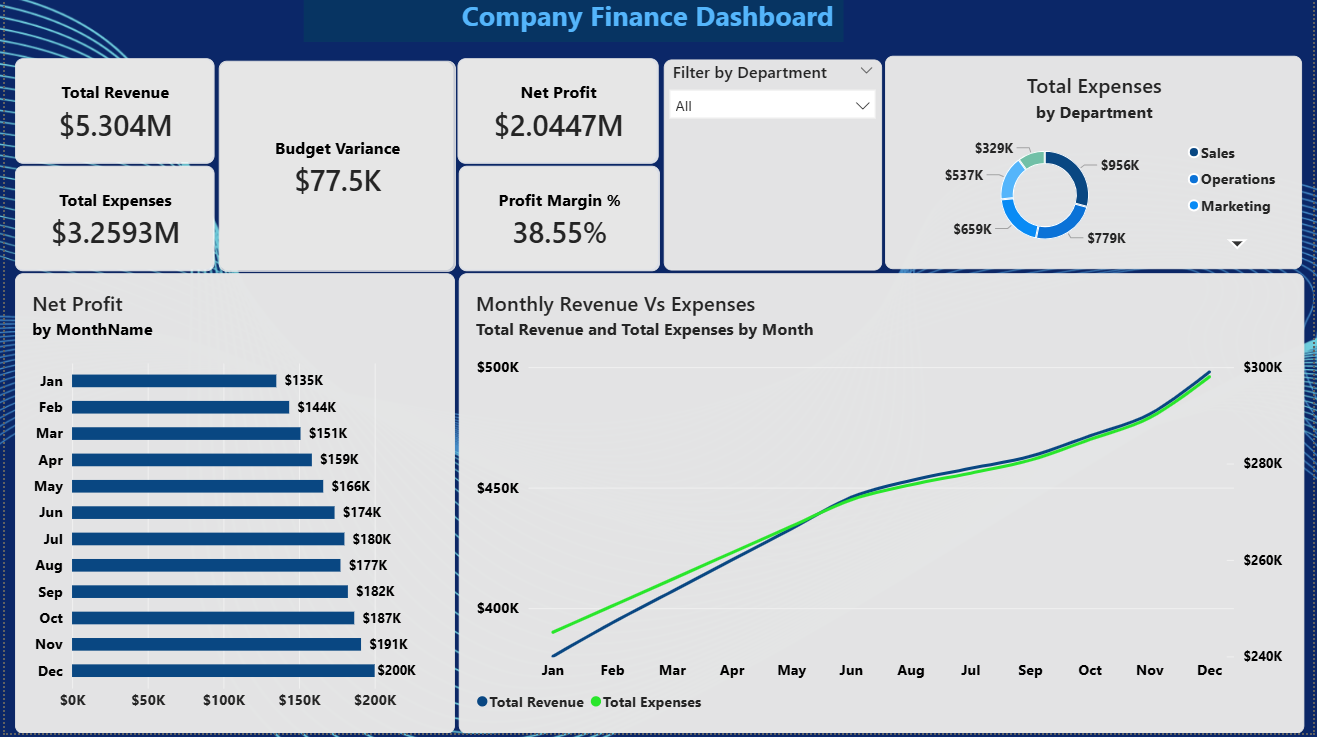

This screenshot's page, from the dashboard's own definition file:
{"tool":"powerbi","page":{"name":"Exuctive_Dashboard","canvas":[1280,720],"ordinal":1},"visuals":[{"type":"cardVisual","fields":{"Data":["Company_Finance.Total Revenue"]},"box":[10,60,195,103.3],"z":0},{"type":"cardVisual","fields":{"Data":["Company_Finance.Total Expenses"]},"box":[10,165,195,103.3],"z":1000},{"type":"cardVisual","fields":{"Data":["Company_Finance.Net Profit"]},"box":[443,60,196.7,103.3],"z":2000},{"type":"cardVisual","fields":{"Data":["Company_Finance.Profit Margin %"]},"box":[443.3,165,196.7,103.3],"z":3000},{"type":"cardVisual","fields":{"Data":["Company_Finance.Budget Variance"]},"box":[209,62,231.7,206.7],"z":4000},{"type":"lineChart","title":"Monthly  Revenue Vs Expenses","fields":{"Category":["Company_Finance.Month"],"Y":["Company_Finance.Total Revenue"],"Y2":["Company_Finance.Total Expenses"]},"box":[443.3,270,827,450],"z":5000},{"type":"barChart","fields":{"Category":["Company_Finance.MonthName"],"Y":["Company_Finance.Net Profit"]},"box":[10,270,430,450],"z":6000},{"type":"slicer","fields":{"Values":["Company_Finance.Department"]},"box":[644,61,213.3,206.7],"z":7000},{"type":"textbox","box":[292,0,528,44],"z":8000},{"type":"donutChart","fields":{"Category":["Company_Finance.Department"],"Y":["Company_Finance.Total Expenses"]},"box":[861,58,408,209],"z":9000}]}

Visuals, with their boxes in screenshot pixels (x1, y1, x2, y2), scaled from the page's 1280x720 canvas onto the 1317x737 screenshot:
cardVisual - Company_Finance.Total Revenue: [10,61,211,167]
cardVisual - Company_Finance.Total Expenses: [10,169,211,275]
cardVisual - Company_Finance.Net Profit: [456,61,658,167]
cardVisual - Company_Finance.Profit Margin %: [456,169,658,275]
cardVisual - Company_Finance.Budget Variance: [215,63,453,275]
"Monthly  Revenue Vs Expenses" lineChart: [456,276,1307,736]
barChart - Company_Finance.MonthName x Company_Finance.Net Profit: [10,276,453,736]
slicer - Company_Finance.Department: [663,62,882,274]
textbox: [300,0,844,45]
donutChart - Company_Finance.Department x Company_Finance.Total Expenses: [886,59,1306,273]
